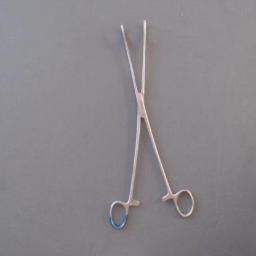Sponge Forceps: (106, 16, 198, 234)
